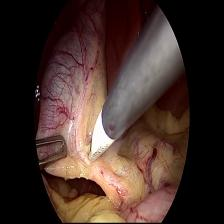Grasper: (30, 133, 72, 174)
Hook: (83, 105, 115, 166)
